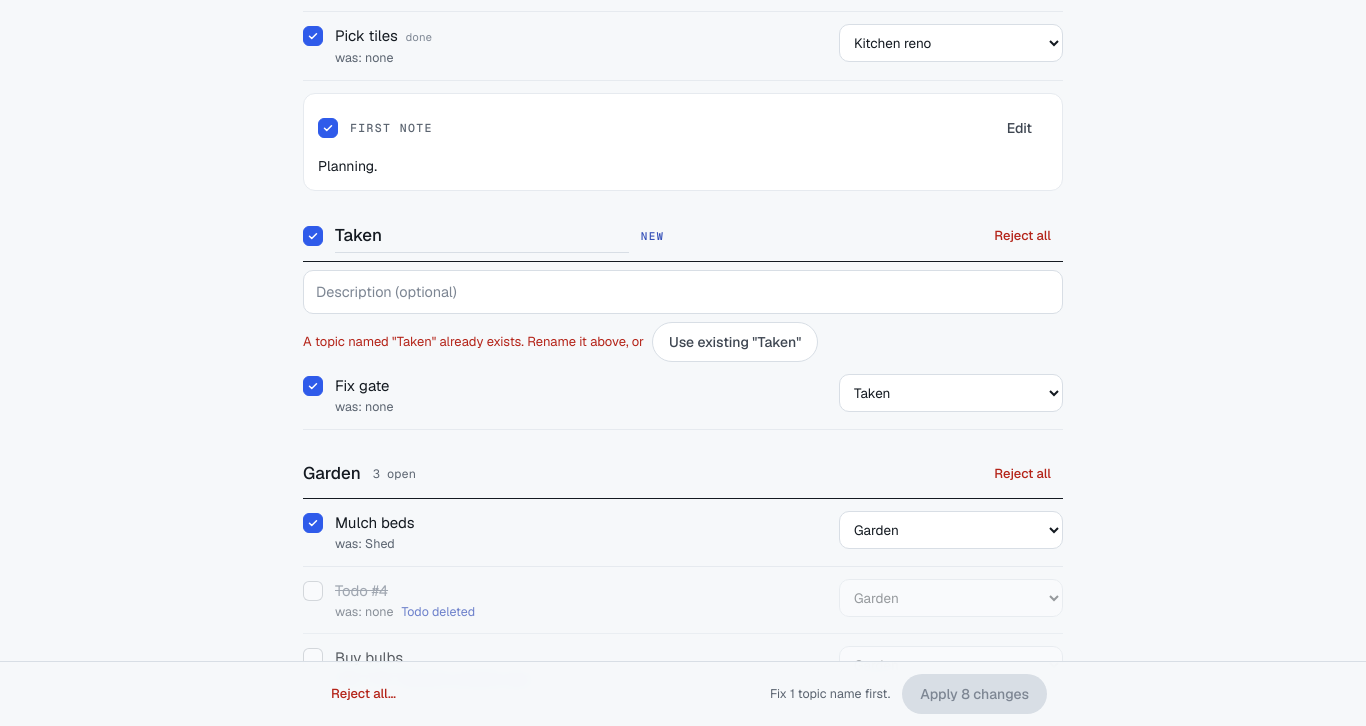
Test: ProposalReview › a 422 while the Unassigned tab is open switches to By topic to show the marks (final review M1)
(page scrolled)
Click the button "Use existing \"Taken\"" at point(735, 342), box [652, 322, 818, 362]
(page scrolled)
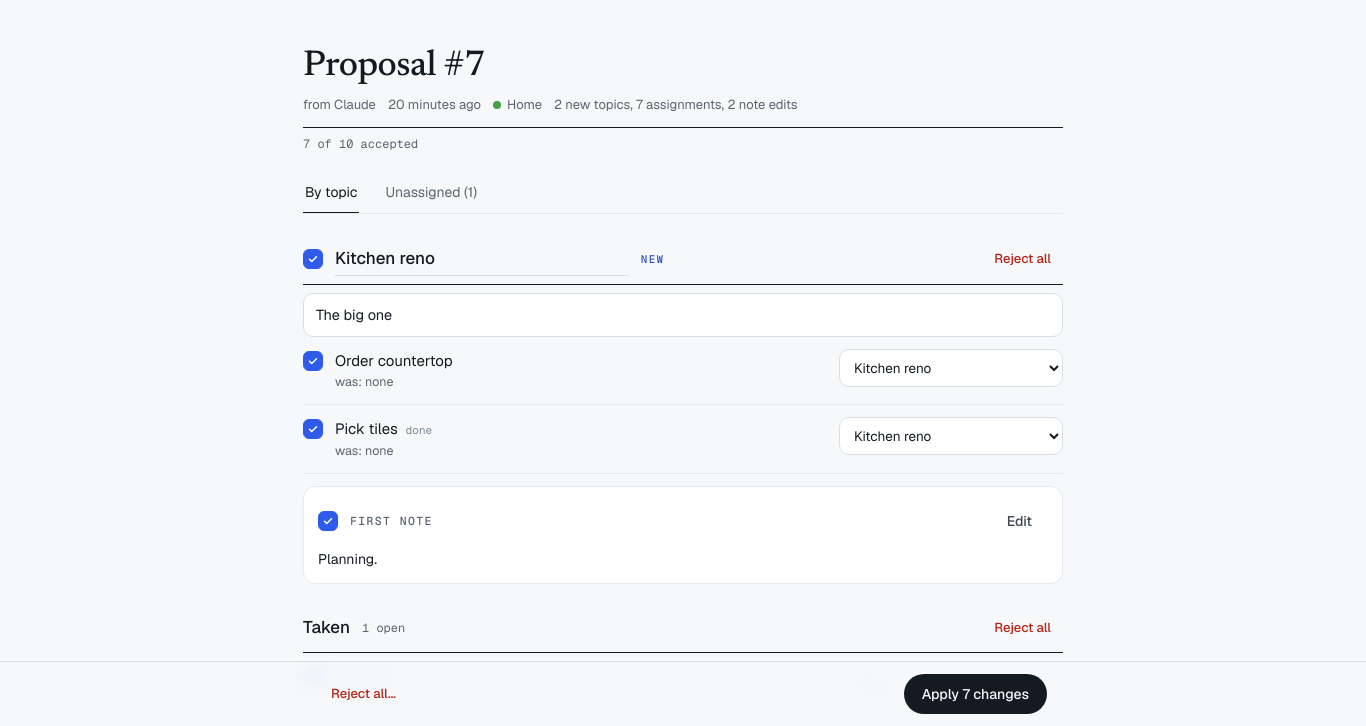
Click the tab "Unassigned (1)" at point(431, 192), box [383, 172, 479, 213]
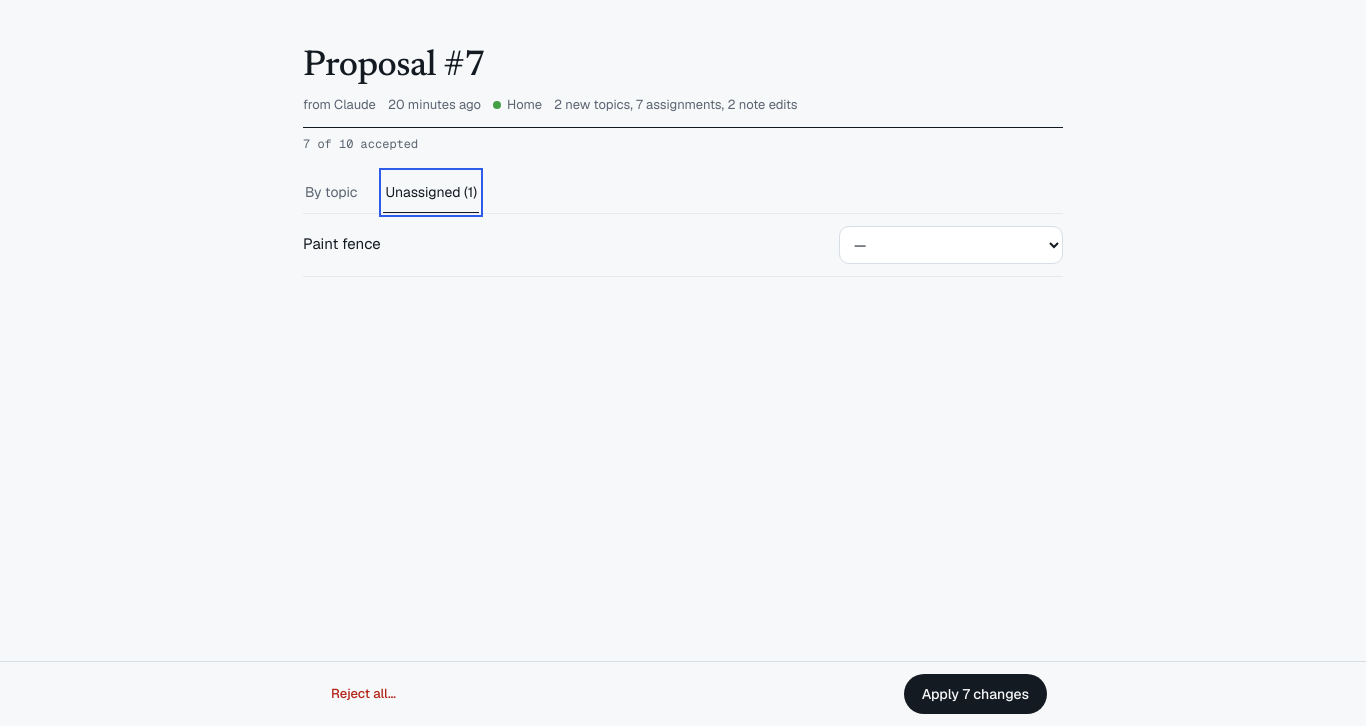
Click the button "Apply 7 changes" at point(975, 694), box [904, 674, 1047, 714]
(page scrolled)
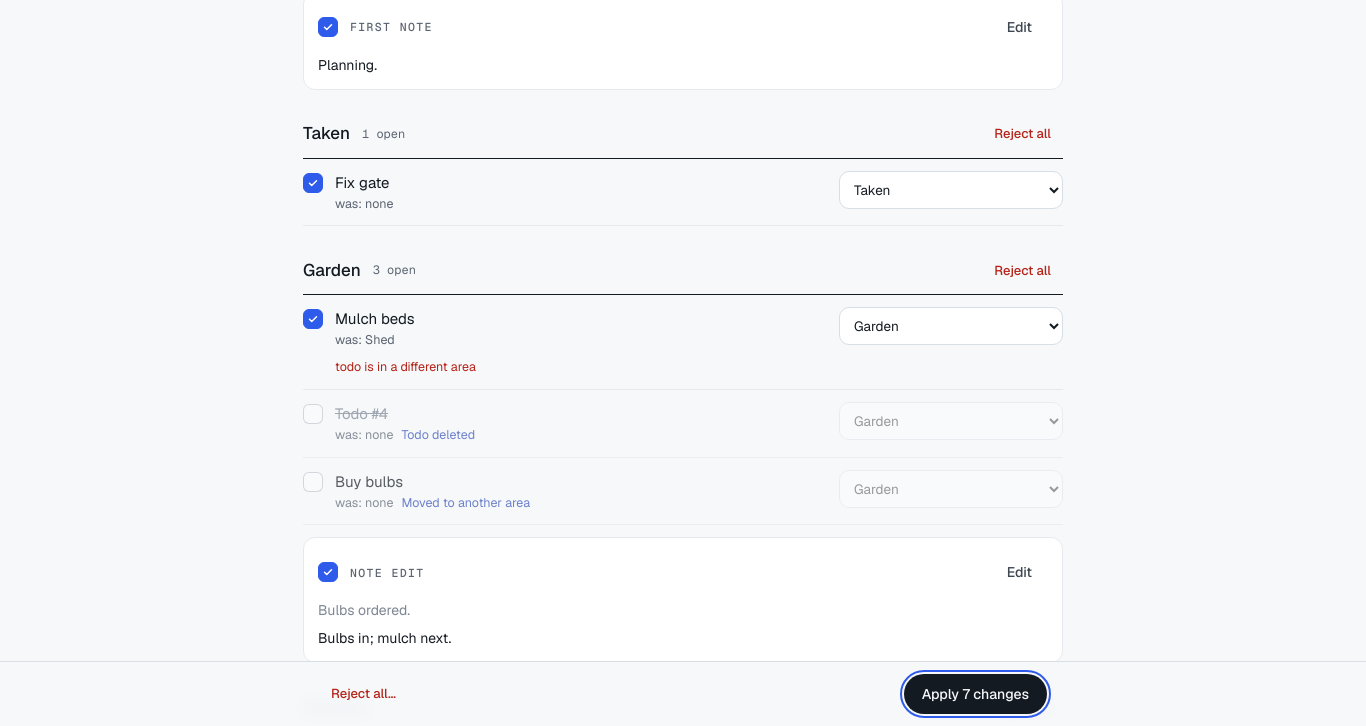
Result: the text "todo is in a different area" is shown at [335, 358, 476, 375]
